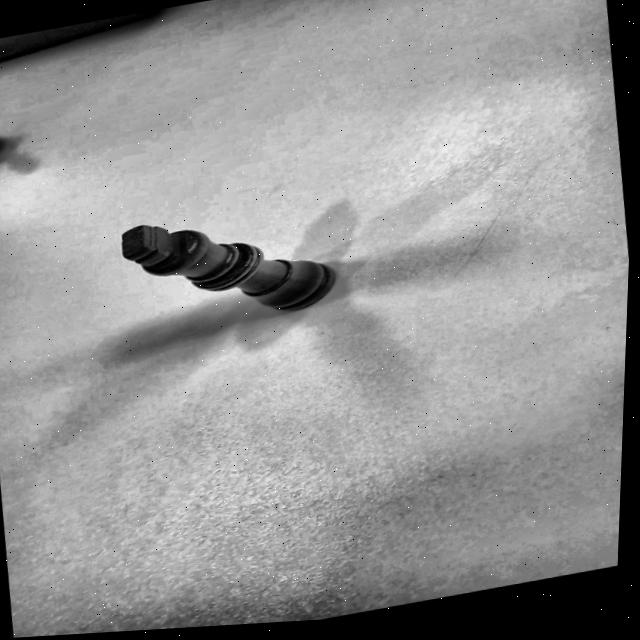black-king: (108, 181, 362, 354)
